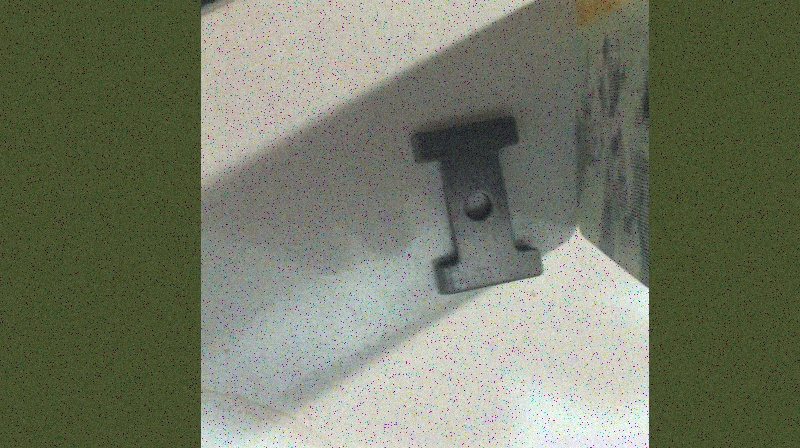O002: (408, 112, 545, 297)
